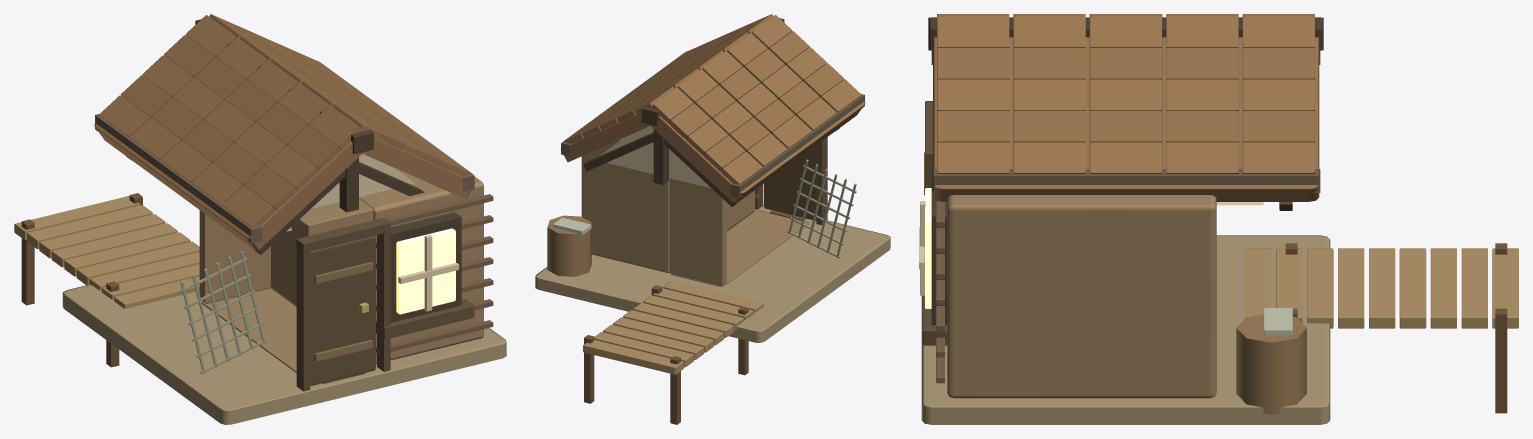
The model's file is fishinghut-0.glb.
3 views of the same model, side by side, from view 1: azimuth 30°, elevation 25°; view 2: azimuth 150°, elevation 25°; view 3: azimuth 270°, elevation 25° (orthographic). The views are drawn at different scales.
Visible parts, largest first — view 1: fishinghut-0-0, door-hinge; view 2: fishinghut-0-0, door-hinge; view 3: fishinghut-0-0.
Part boxes in pixels (bbox=[...]): fishinghut-0-0: bbox=[14, 14, 506, 424]; door-hinge: bbox=[310, 236, 375, 385]; fishinghut-0-0: bbox=[535, 14, 890, 424]; door-hinge: bbox=[764, 145, 816, 220]; fishinghut-0-0: bbox=[919, 14, 1518, 424].
Bounding box in the file's own units: 1.87 × 1.97 × 2.72.
